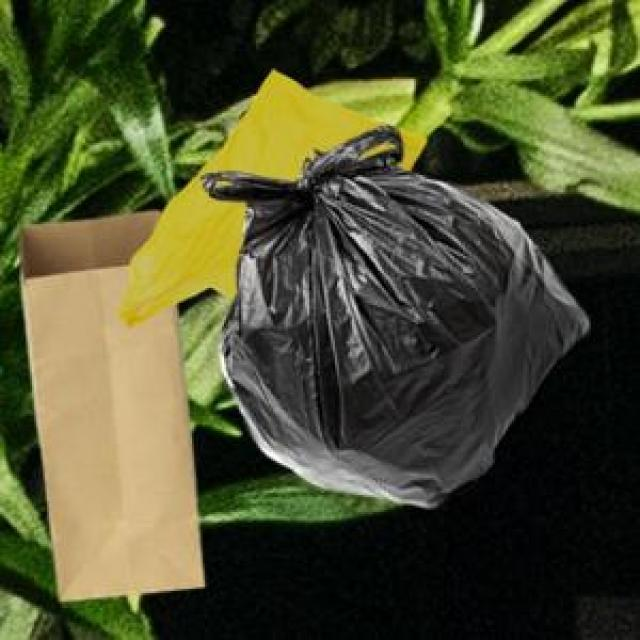miscellaneous trash: (196, 122, 585, 504)
paper: (17, 207, 201, 597)
